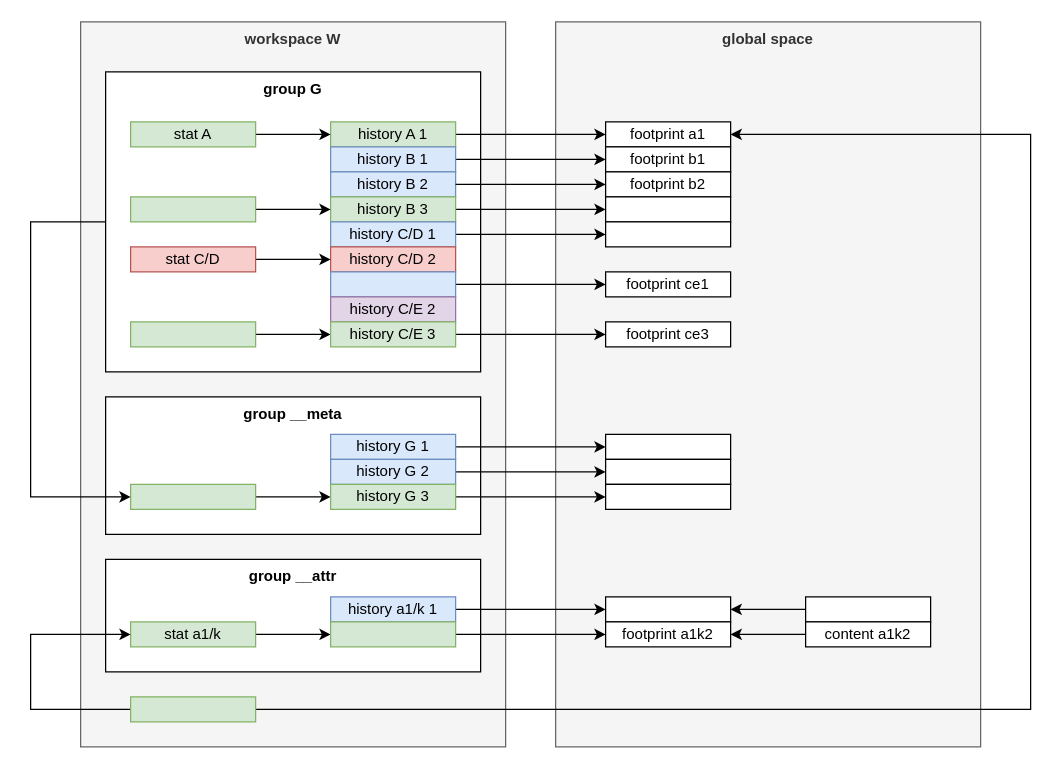
The diagram is 1063 pixels wide and 769 high, and some of its shapes have lost their labels. The centre of each missing label's shape, as x and y in pixels:
attr a1/k: the point at 192,709
content a1k1: the point at 867,609
footprint a1k1: the point at 667,609
footprint b3: the point at 667,209
footprint cd1: the point at 667,234
footprint g1: the point at 667,446
footprint g2: the point at 667,471
footprint g3: the point at 667,496
history a1/k 2: the point at 392,634
history C/E 1: the point at 392,284
stat B: the point at 192,209
stat C/E: the point at 192,334
stat G: the point at 192,496
